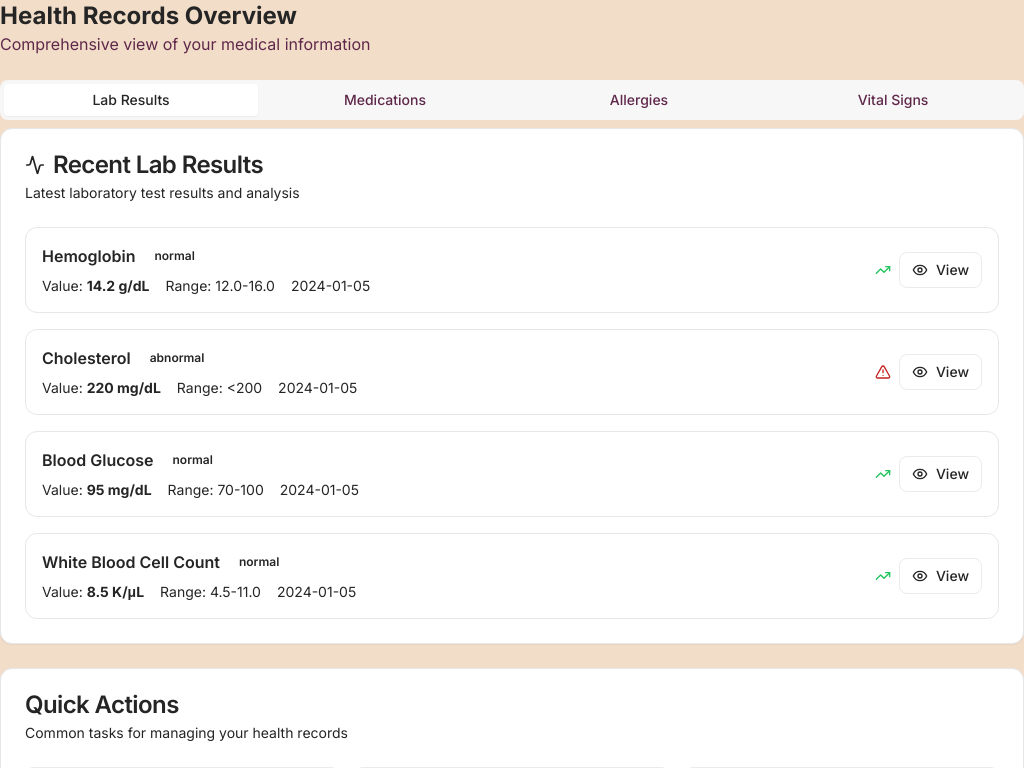
Test: HealthRecordsOverview › Tab Navigation › should switch to allergies tab when clicked
The width and height of the screenshot is (1024, 768).
Click the tab "Allergies". click: (639, 100)
box: [512,84,766,116]
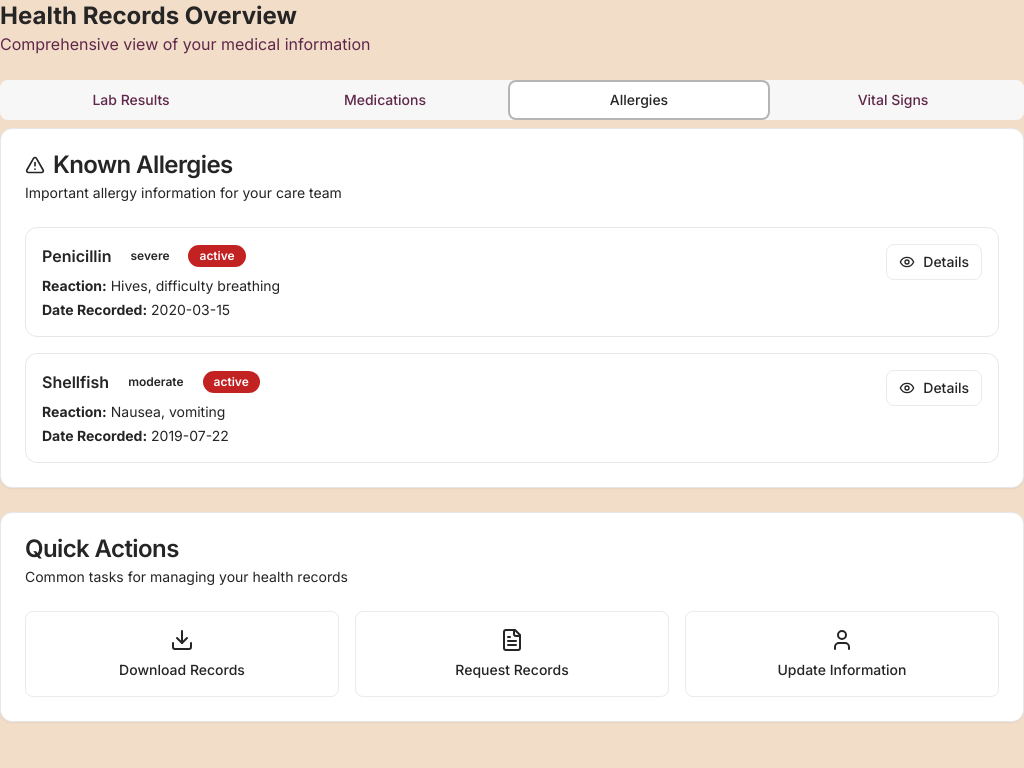
expect the heading "Known Allergies" is shown: met, box [25,150,233,179]
